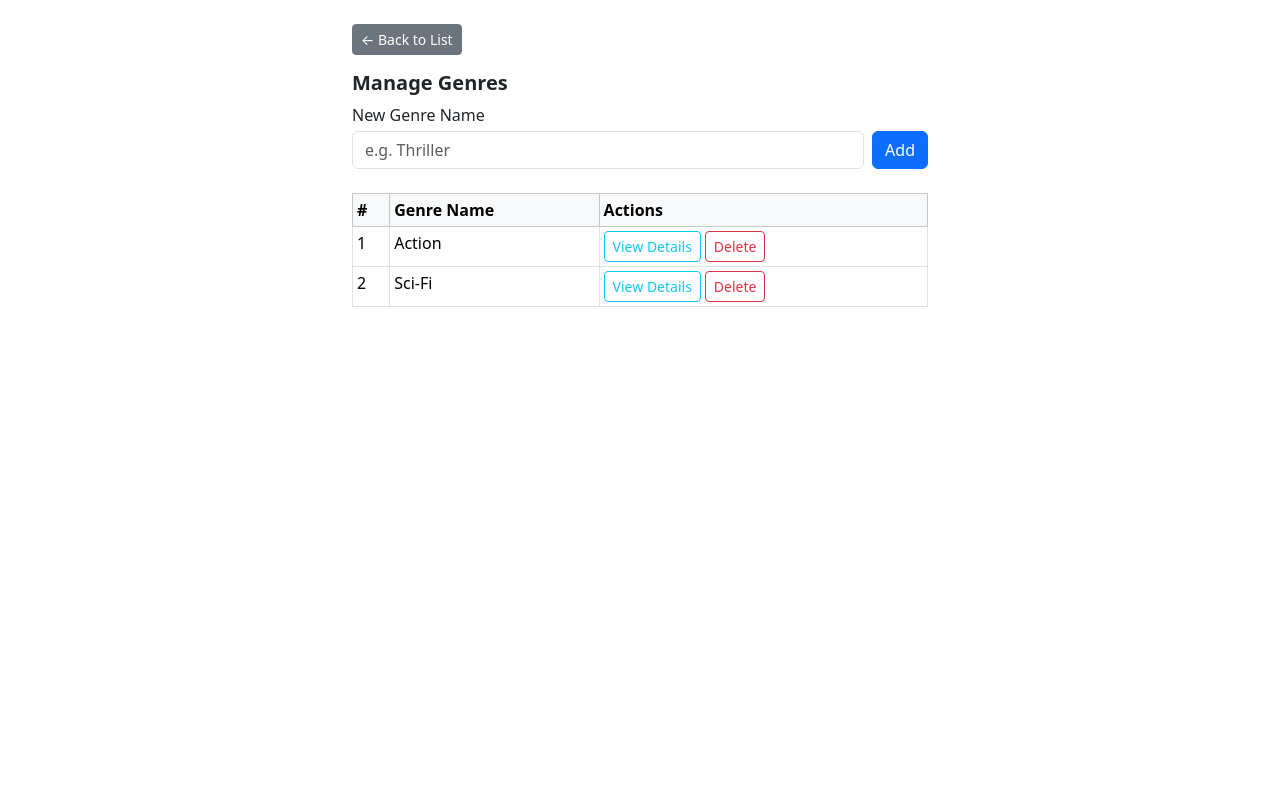
Scenario: ManageGenres — TODO-10 › TODO-10: confirming delete on genre IN USE shows error, does not delete
Expected: the text "Action" is shown, x1=390 y1=226 x2=599 y2=266
Action has movies → should show error
Click the 1st button "Delete" at [735, 246], box x1=705 y1=231 x2=765 y2=262
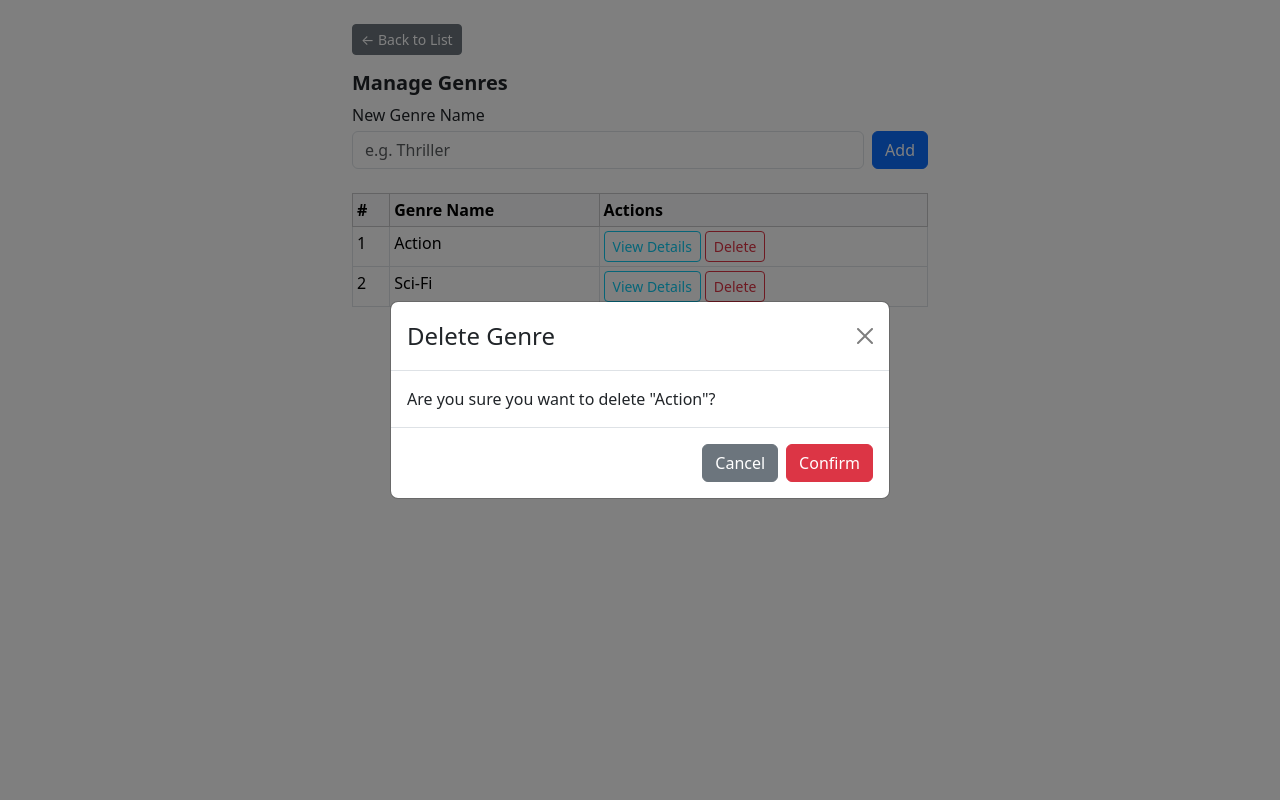
Result: the text "Are you sure you want to delete \"Action\"?" is shown at x1=407 y1=388 x2=716 y2=410
Click the button "Confirm" at [830, 463], box x1=786 y1=444 x2=873 y2=482
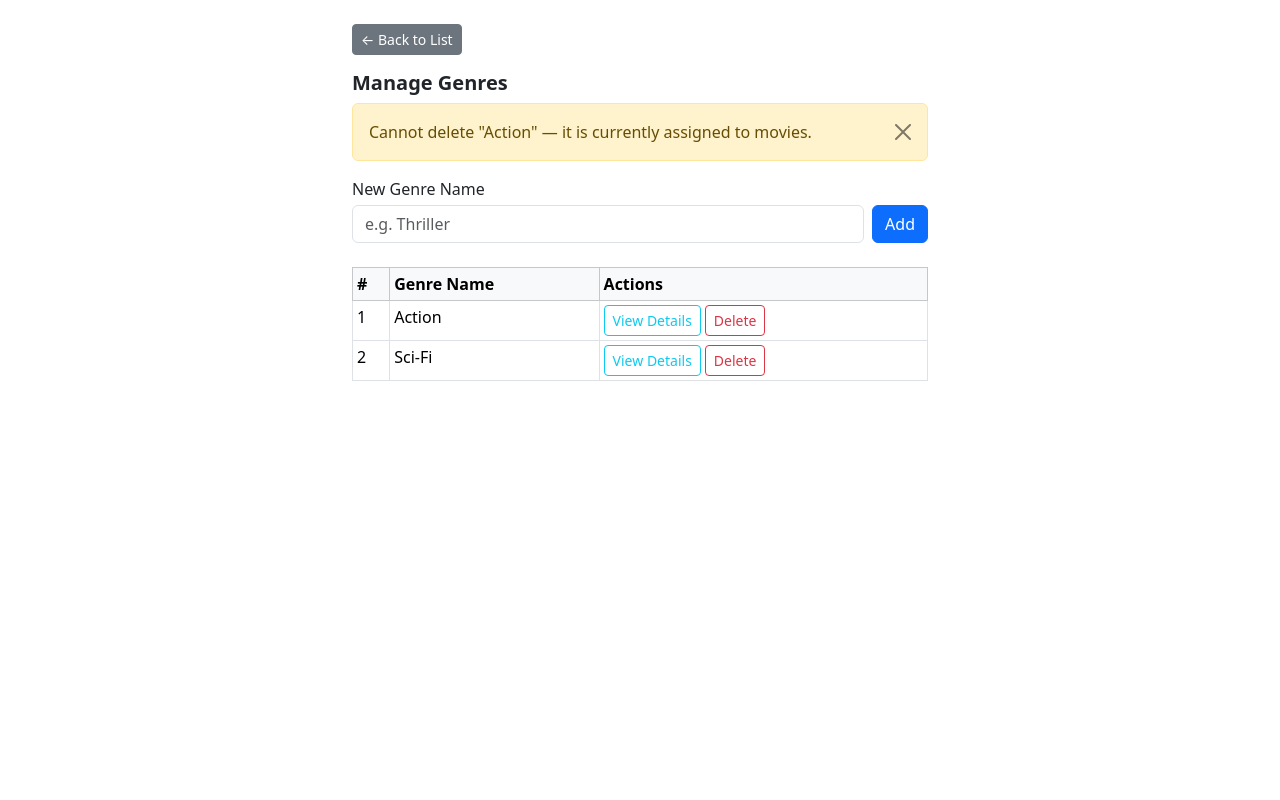
Result: the text "Cannot delete \"Action\" — it is currently assigned to movies." is shown at x1=352 y1=103 x2=928 y2=161
